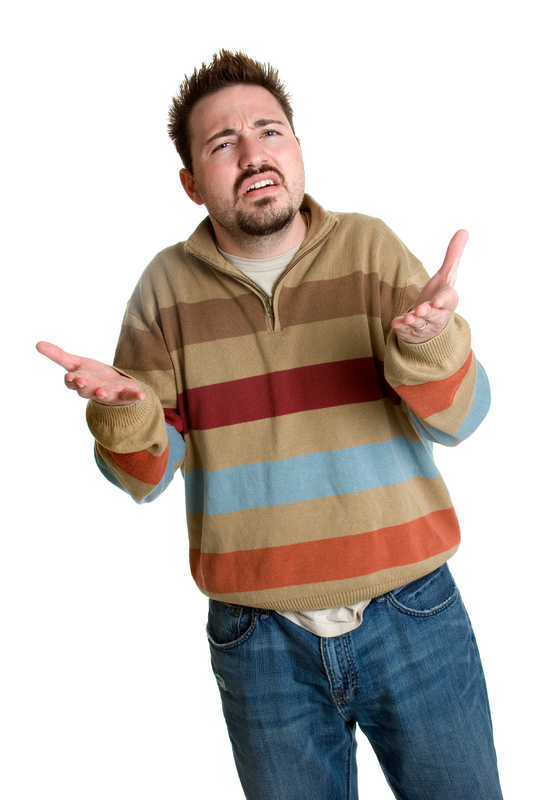confused: (180, 97, 310, 239)
